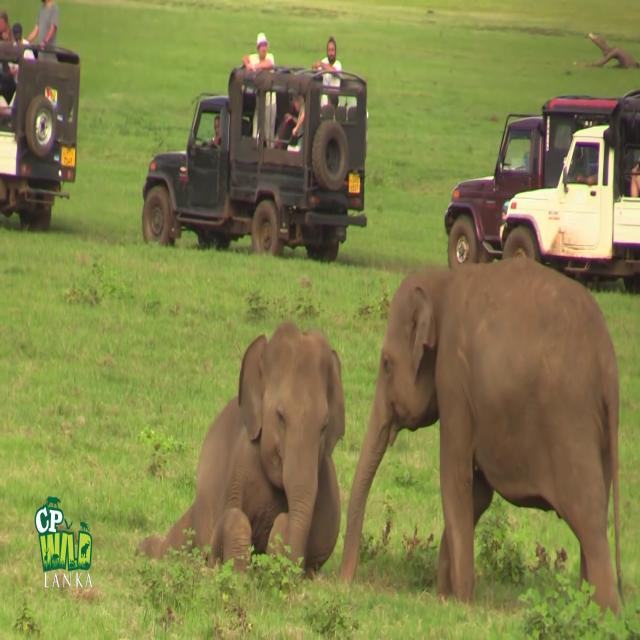Elephant: (338, 254, 625, 621), (134, 320, 345, 582)
person: (32, 0, 62, 52), (242, 34, 278, 74), (314, 38, 343, 84), (208, 115, 220, 148)
